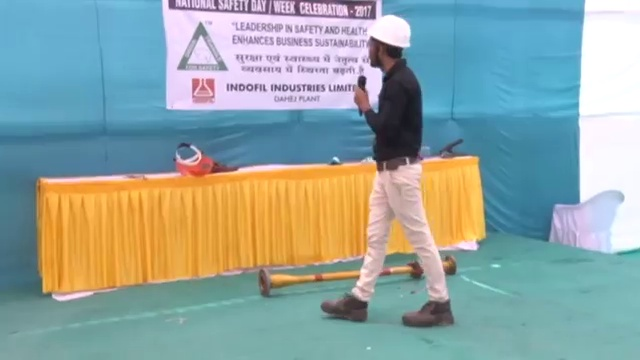helmet: (365, 14, 412, 51)
helmet_on: (364, 14, 414, 68)
person: (333, 15, 453, 325)
